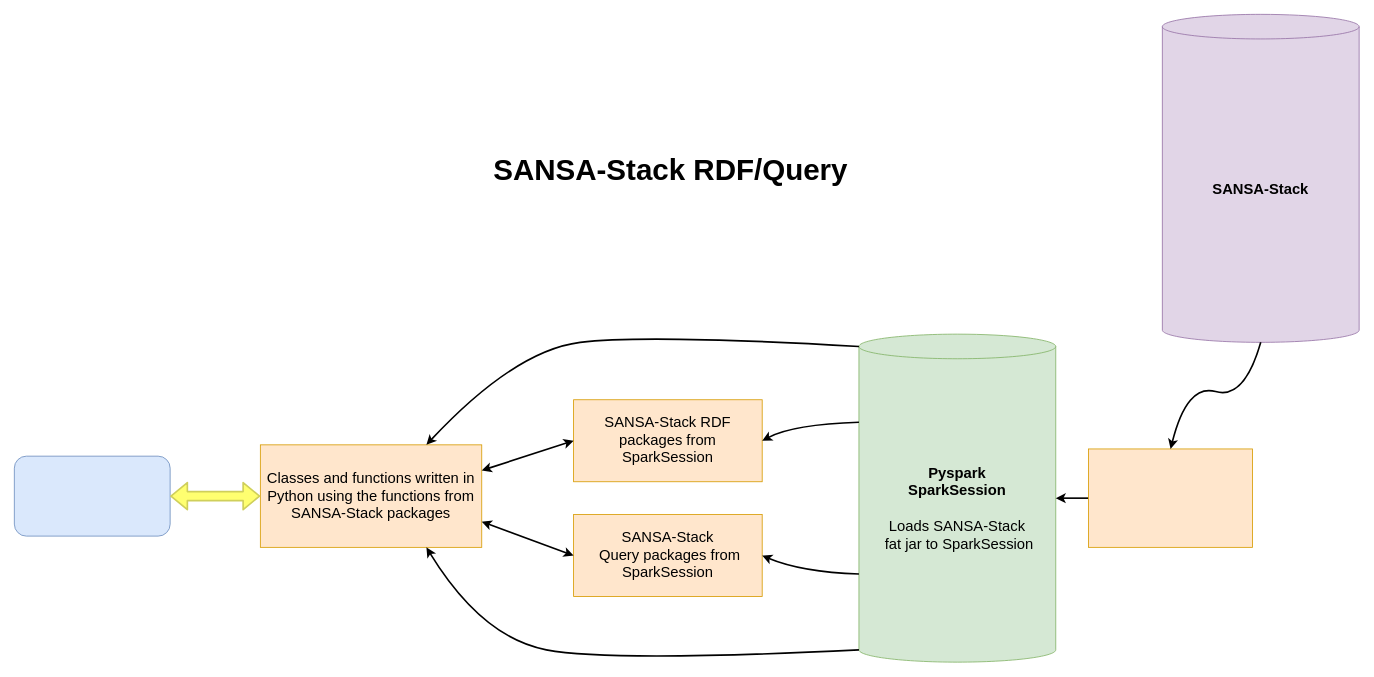
Image size: 1374x677. Some labels were removed from this diagram. Here are the shapes that lost their labels. From the top down, the centre of each, then its label:
At (x=92, y=495): "SANSA Examples (Python code)".
At (x=1170, y=497): "SANSA-Stack fat jar with dependencies".
